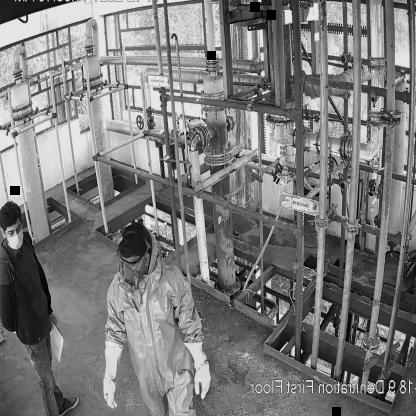mask: (117, 266, 141, 296)
no_goggles: (7, 221, 24, 238)
